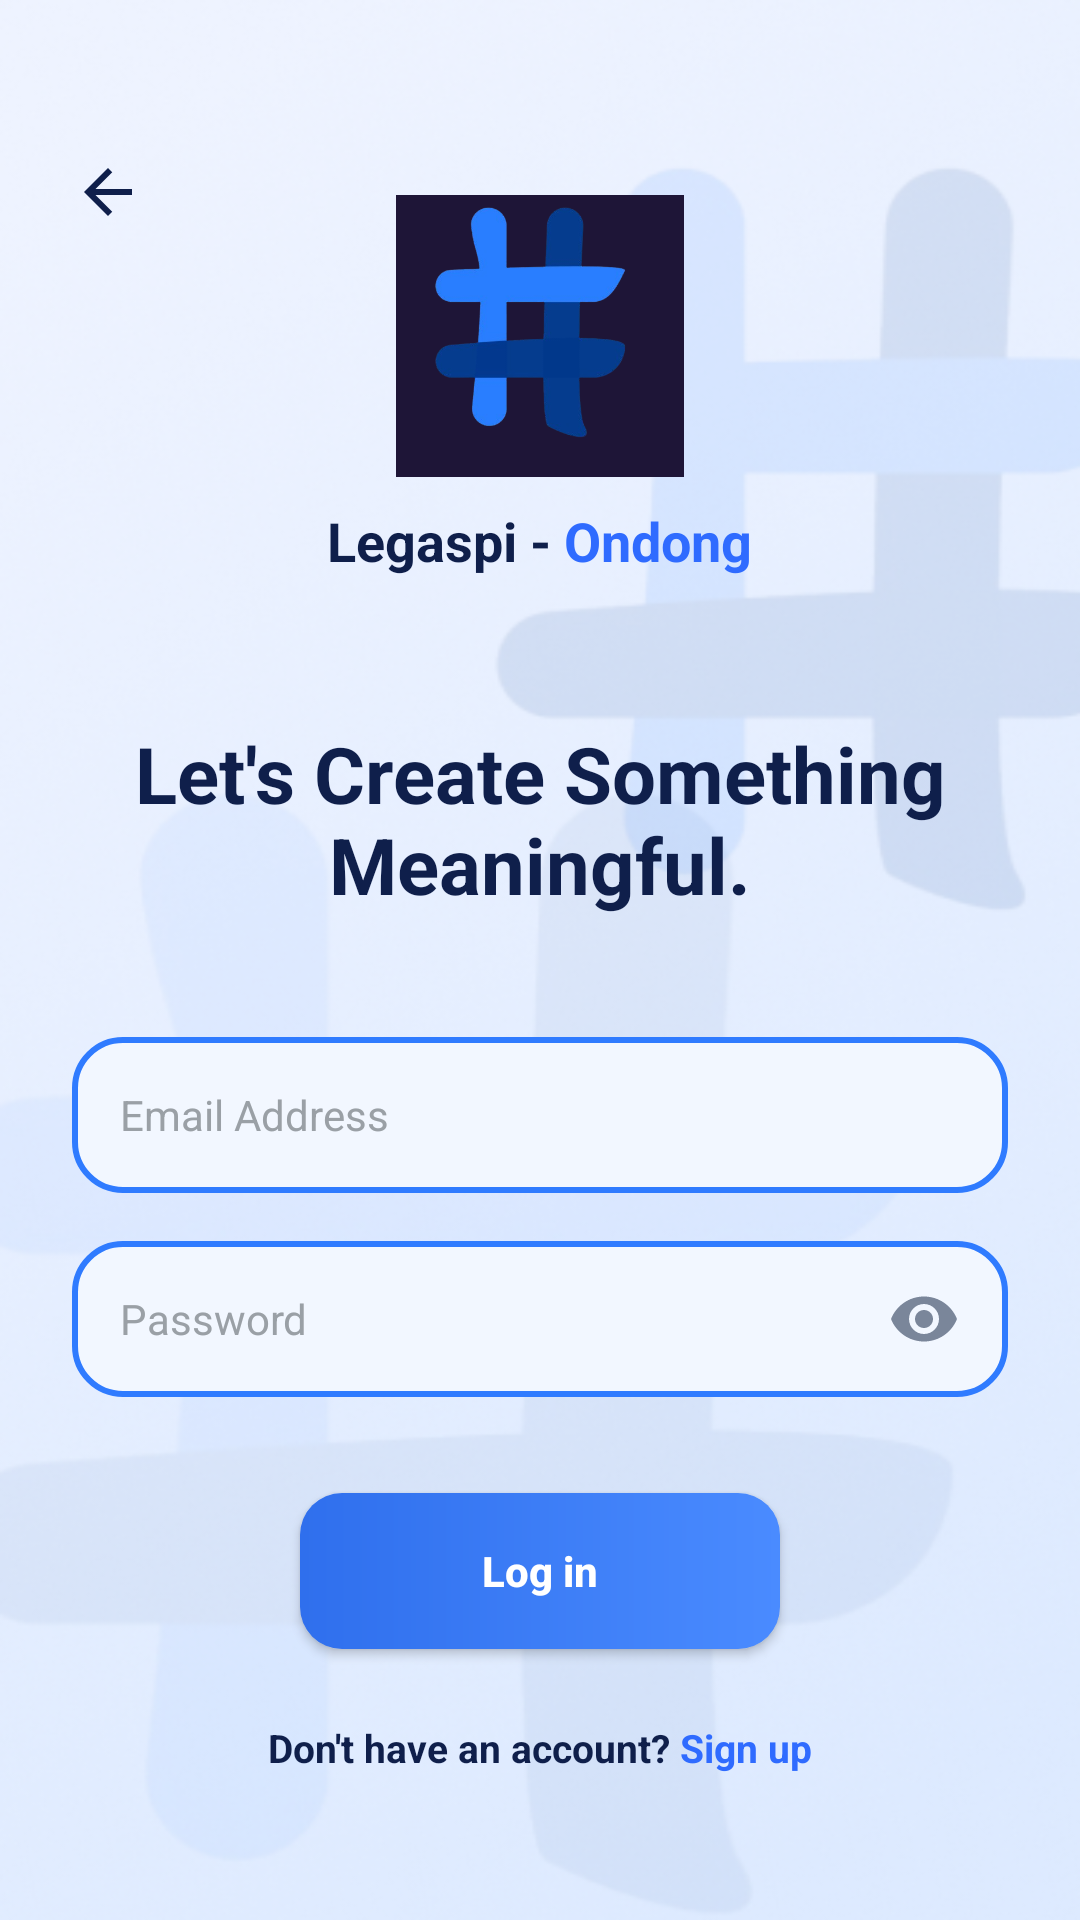

Icons on this 1080px x 1920px Android screen, each with the point to tap as point (x, y):
Back: point (108, 192)
